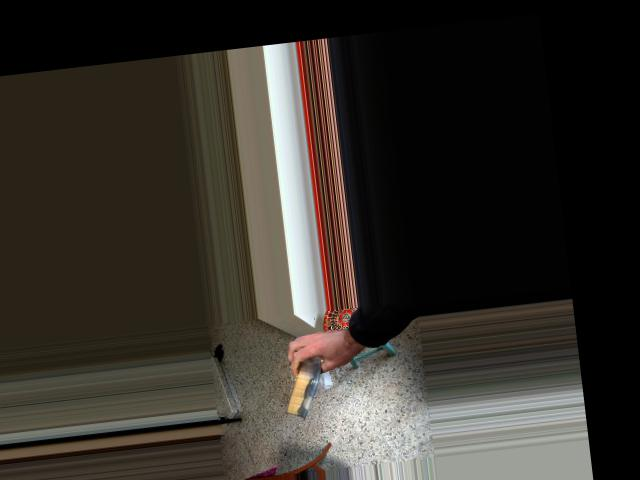cheese: (256, 324, 343, 427)
